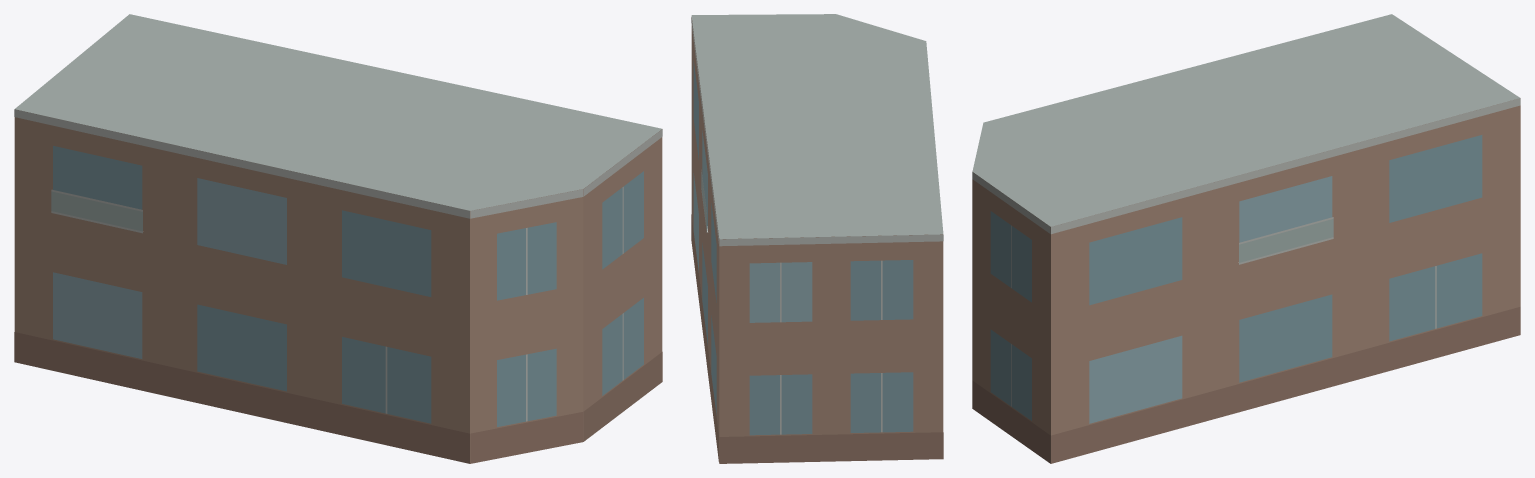
File: survey-upis-32760939.glb
The picture shows the model from 3 angles, left to right: view 1: azimuth 30°, elevation 25°; view 2: azimuth 150°, elevation 25°; view 3: azimuth 270°, elevation 25°; orthographic projection. The views are drawn at different scales.
Parts seen in each view (by area): view 1: survey-upis-32760939.tmp; view 2: survey-upis-32760939.tmp; view 3: survey-upis-32760939.tmp.
Part boxes in pixels (left/top/right/bottom): survey-upis-32760939.tmp: left=14, top=14, right=662, bottom=463; survey-upis-32760939.tmp: left=691, top=14, right=943, bottom=463; survey-upis-32760939.tmp: left=972, top=14, right=1520, bottom=463.
Bounding box in the file's own units: 15.04 × 7.8 × 16.37.
